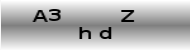3: (47, 8, 61, 21)
A: (32, 9, 48, 23)
Z: (119, 9, 134, 23)
d: (98, 26, 113, 40)
h: (77, 26, 91, 39)
